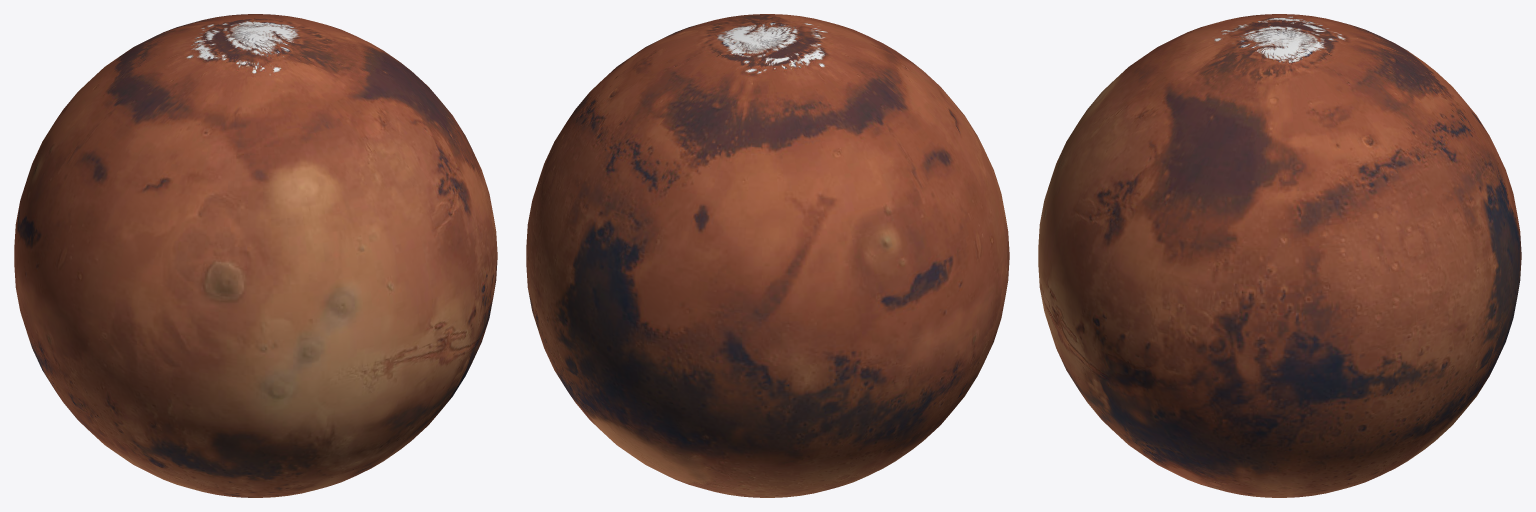
The model's file is Mars.gltf.
The picture shows the model from 3 angles, left to right: view 1: azimuth 30°, elevation 25°; view 2: azimuth 150°, elevation 25°; view 3: azimuth 270°, elevation 25°; orthographic projection.
Visible parts, largest first — view 1: Sphere; view 2: Sphere; view 3: Sphere.
Part boxes in pixels (x1,y1,x2,y2): Sphere: [14, 14, 497, 497]; Sphere: [526, 14, 1009, 497]; Sphere: [1038, 14, 1521, 497].
Bounding box in the file's own units: 2 × 2 × 2.
1 material, 1 textured.
